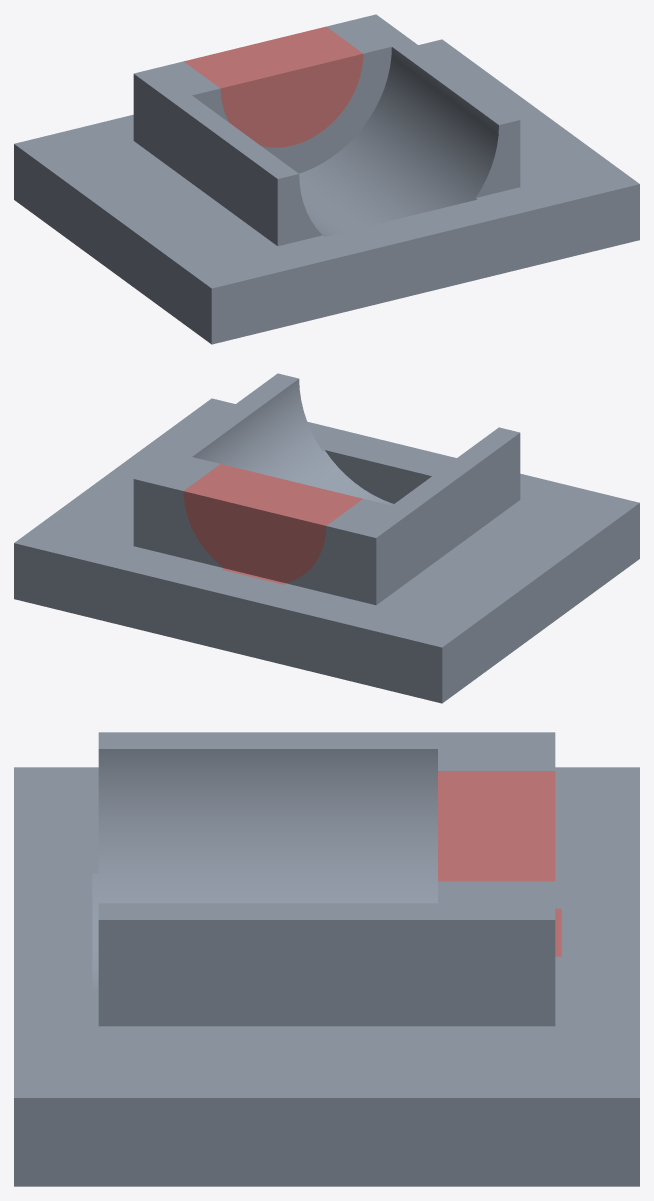
Rendered from step_04.glb.
3 renders of one model, top to bottom at view 1: azimuth 30°, elevation 25°; view 2: azimuth 150°, elevation 25°; view 3: azimuth 270°, elevation 25°, orthographic. The views are drawn at different scales.
Visible parts, largest first — view 1: part__saddle bearing block, removed__saddle bearing block; view 2: part__saddle bearing block, removed__saddle bearing block; view 3: part__saddle bearing block, removed__saddle bearing block.
Part boxes in pixels (bbox=[...]): part__saddle bearing block: bbox=[14, 14, 639, 344]; removed__saddle bearing block: bbox=[184, 26, 363, 147]; part__saddle bearing block: bbox=[14, 373, 639, 703]; removed__saddle bearing block: bbox=[183, 464, 362, 584]; part__saddle bearing block: bbox=[14, 732, 639, 1186]; removed__saddle bearing block: bbox=[438, 771, 561, 956].
Bounding box in the file's own units: 120 × 33 × 96.
